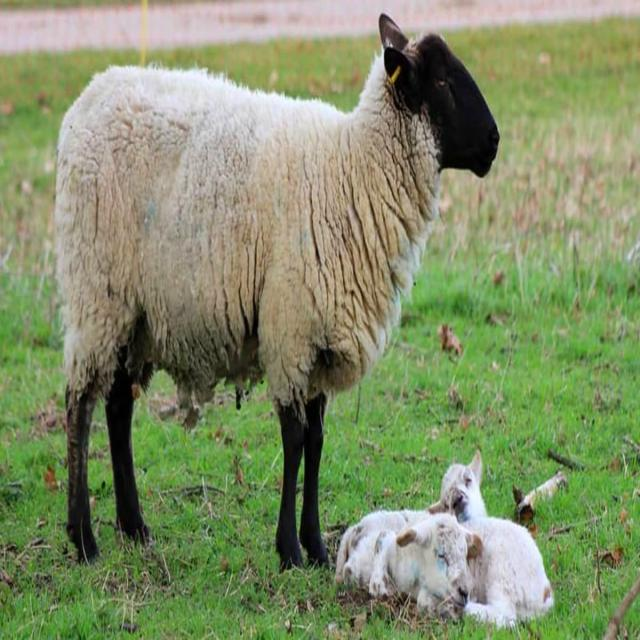sheep: (55, 13, 500, 567), (429, 451, 554, 626), (336, 510, 482, 618)
